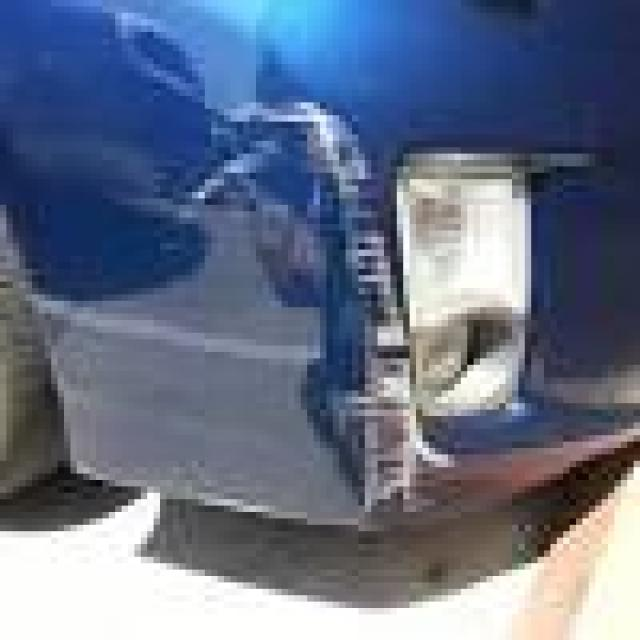minor: (184, 64, 494, 548)
